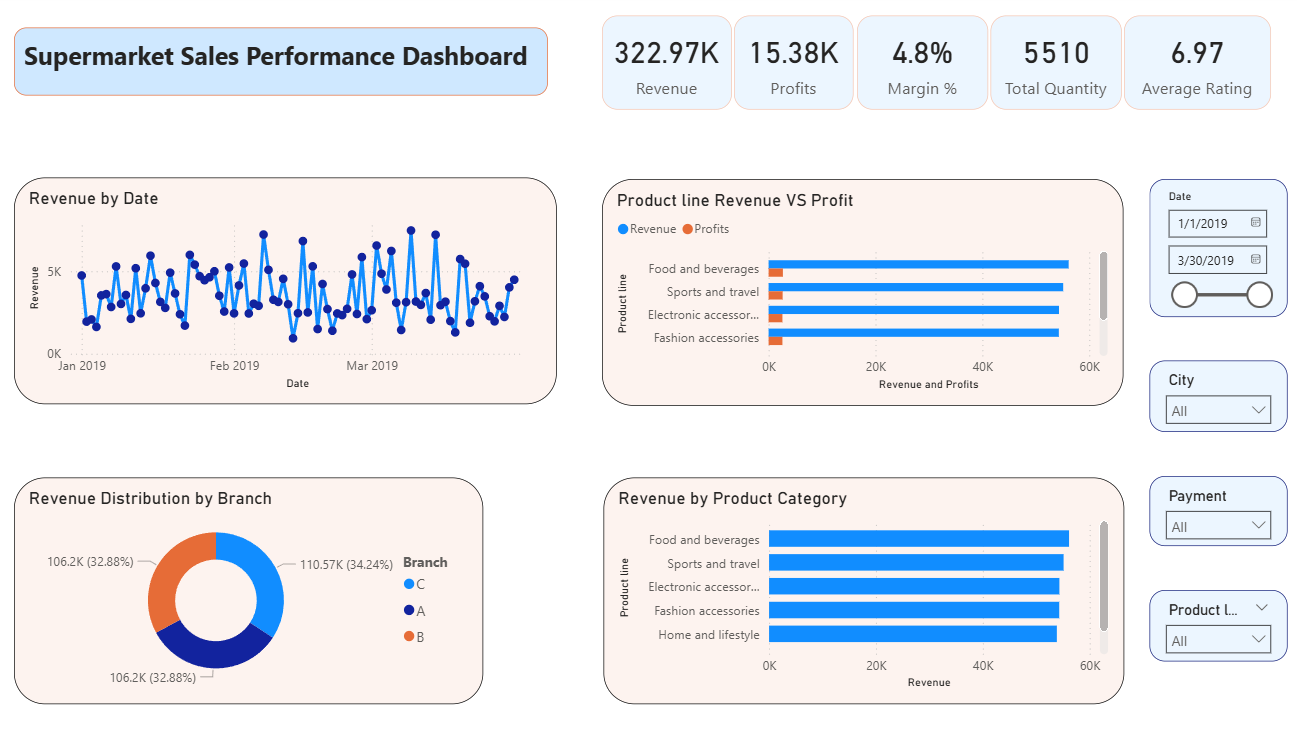

Layout of this report page (visuals, bound fields, positions):
{"tool":"powerbi","page":{"name":"Page 1","canvas":[1280,720],"ordinal":0},"visuals":[{"type":"card","fields":{"Values":["supermarket_sales.Total profits"]},"box":[731.3,21.5,116,91.1],"z":0},{"type":"card","fields":{"Values":["supermarket_sales.Total Quantity"]},"box":[979.8,21.5,127.5,91.1],"z":1000},{"type":"card","fields":{"Values":["supermarket_sales.Total Revenue"]},"box":[603,21.5,125.9,91.1],"z":2000},{"type":"card","fields":{"Values":["supermarket_sales.Profit Margin %"]},"box":[849.8,21.5,127.5,91.1],"z":3000},{"type":"lineChart","fields":{"Category":["Date.Date"],"Y":["supermarket_sales.Total Revenue"]},"box":[31.5,179.5,526.8,220.3],"z":4000},{"type":"clusteredBarChart","title":"Revenue by Product Category","fields":{"Category":["supermarket_sales.Product line"],"Y":["supermarket_sales.Total Revenue"]},"box":[604.1,470.1,505.1,219.8],"z":5000},{"type":"donutChart","title":"Revenue Distribution by Branch","fields":{"Category":["supermarket_sales.Branch"],"Y":["supermarket_sales.Total Revenue"]},"box":[32,470.1,455.6,219.8],"z":6000},{"type":"card","fields":{"Values":["supermarket_sales.Average Rating"]},"box":[1109.8,21.5,142.5,91.1],"z":7000},{"type":"clusteredBarChart","title":"Product line Revenue VS  Profit","fields":{"Category":["supermarket_sales.Product line"],"Y":["supermarket_sales.Total Revenue","supermarket_sales.Total profits"]},"box":[603.1,180,506.2,220],"z":8000},{"type":"slicer","fields":{"Values":["Date.Date"]},"box":[1133.8,180,133.8,133.8],"z":9000},{"type":"slicer","fields":{"Values":["supermarket_sales.City"]},"box":[1133.8,356.9,133.8,69.2],"z":10000},{"type":"slicer","fields":{"Values":["supermarket_sales.Product line"]},"box":[1133.8,580,133.8,69.2],"z":11000},{"type":"slicer","fields":{"Values":["supermarket_sales.Payment"]},"box":[1133.8,469.2,133.8,67.7],"z":12000},{"type":"textbox","box":[31.5,34,517.8,66.1],"z":13000}]}

Visuals, with their boxes in screenshot pixels (x1, y1, x2, y2), scaled from the page's 1280x720 canvas onto the 1297x734 screenshot:
card - supermarket_sales.Total profits: select_region(741, 22, 859, 115)
card - supermarket_sales.Total Quantity: select_region(993, 22, 1122, 115)
card - supermarket_sales.Total Revenue: select_region(611, 22, 739, 115)
card - supermarket_sales.Profit Margin %: select_region(861, 22, 990, 115)
lineChart - Date.Date x supermarket_sales.Total Revenue: select_region(32, 183, 566, 408)
"Revenue by Product Category" clusteredBarChart: select_region(612, 479, 1124, 703)
"Revenue Distribution by Branch" donutChart: select_region(32, 479, 494, 703)
card - supermarket_sales.Average Rating: select_region(1125, 22, 1269, 115)
"Product line Revenue VS  Profit" clusteredBarChart: select_region(611, 184, 1124, 408)
slicer - Date.Date: select_region(1149, 184, 1284, 320)
slicer - supermarket_sales.City: select_region(1149, 364, 1284, 434)
slicer - supermarket_sales.Product line: select_region(1149, 591, 1284, 662)
slicer - supermarket_sales.Payment: select_region(1149, 478, 1284, 547)
textbox: select_region(32, 35, 557, 102)
